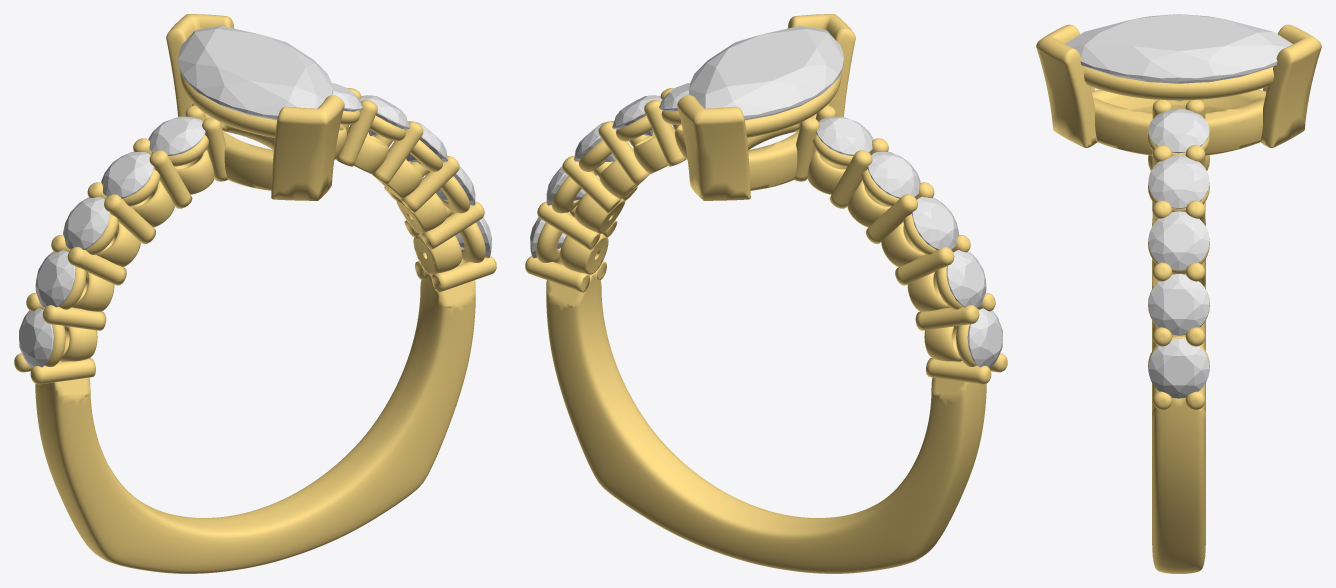
File: diamond-marquise-yellowgold-protectededges2prongs-europeanshank-11stone.glb
The picture shows the model from 3 angles, left to right: view 1: azimuth 30°, elevation 25°; view 2: azimuth 150°, elevation 25°; view 3: azimuth 270°, elevation 25°; orthographic projection.
Visible parts, largest first — view 1: metal, stone, dia.004, dia.005, dia.003, dia.006, dia, dia.010; view 2: metal, stone, dia.004, dia.005, dia.003, dia.006, dia, dia.010; view 3: metal, stone, dia.008, dia.007, dia.009, dia.010, dia.011.
Boxes of the visible parts, left/top/right/bottom form: metal: left=14, top=14, right=496, bottom=573; stone: left=178, top=26, right=332, bottom=120; dia.004: left=63, top=196, right=109, bottom=249; dia.005: left=101, top=151, right=154, bottom=198; dia.003: left=35, top=250, right=75, bottom=307; dia.006: left=148, top=116, right=205, bottom=155; dia: left=19, top=308, right=54, bottom=367; dia.010: left=359, top=95, right=409, bottom=135; metal: left=525, top=14, right=1007, bottom=573; stone: left=689, top=26, right=843, bottom=120; dia.004: left=912, top=196, right=958, bottom=249; dia.005: left=867, top=151, right=920, bottom=198; dia.003: left=946, top=250, right=986, bottom=307; dia.006: left=816, top=116, right=873, bottom=155; dia: left=967, top=308, right=1002, bottom=367; dia.010: left=612, top=95, right=662, bottom=135; metal: left=1036, top=24, right=1321, bottom=573; stone: left=1065, top=14, right=1292, bottom=101; dia.008: left=1148, top=274, right=1209, bottom=334; dia.007: left=1148, top=338, right=1209, bottom=398; dia.009: left=1148, top=211, right=1209, bottom=270; dia.010: left=1148, top=155, right=1209, bottom=208; dia.011: left=1148, top=108, right=1209, bottom=153.
Size of the model in its own units: 21.97 by 22.73 by 11.69.
